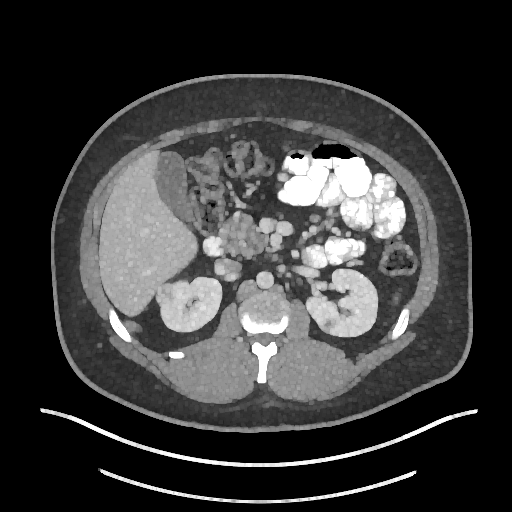Lesion: (322, 318, 341, 337)
